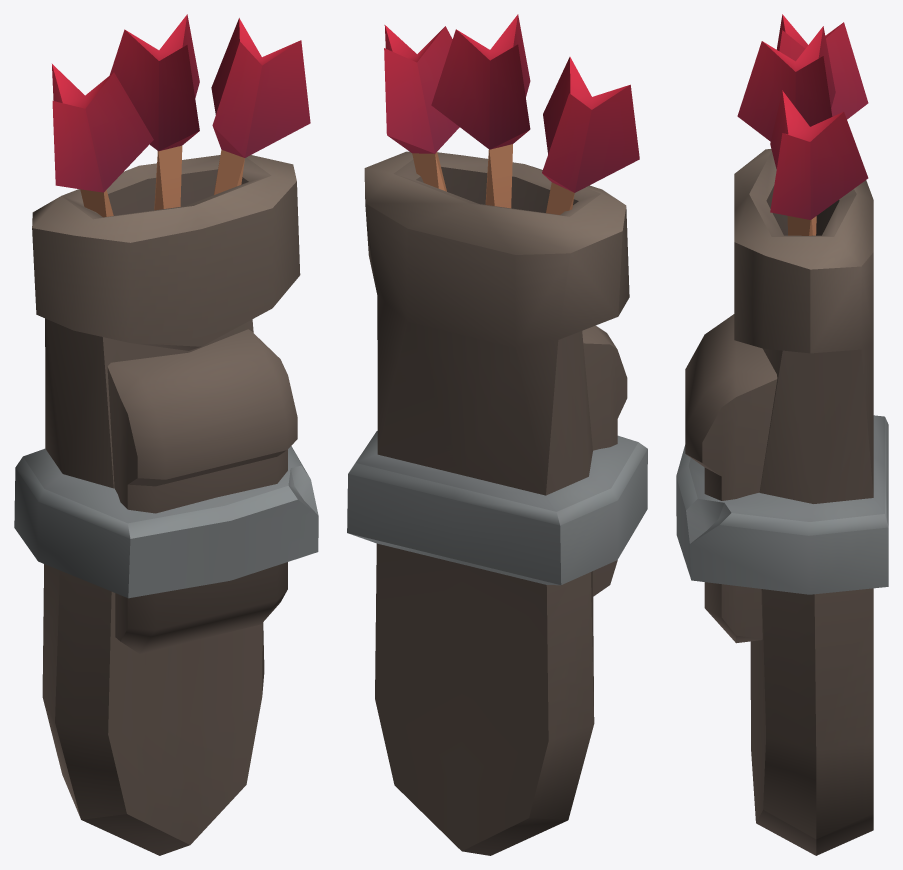
Rendered from skel_quiver.glb.
3 renders of one model, left to right at view 1: azimuth 30°, elevation 25°; view 2: azimuth 150°, elevation 25°; view 3: azimuth 270°, elevation 25°, orthographic. The views are drawn at different scales.
Parts seen in each view (by area): view 1: Skeleton_Quiver; view 2: Skeleton_Quiver; view 3: Skeleton_Quiver.
Boxes of the visible parts, x1,y1,x2,y2 form: Skeleton_Quiver: (14, 14, 318, 855); Skeleton_Quiver: (347, 14, 647, 855); Skeleton_Quiver: (676, 14, 888, 855).
Bounding box in the file's own units: 0.3054 × 0.9294 × 0.2196.
1 material, 1 textured.
